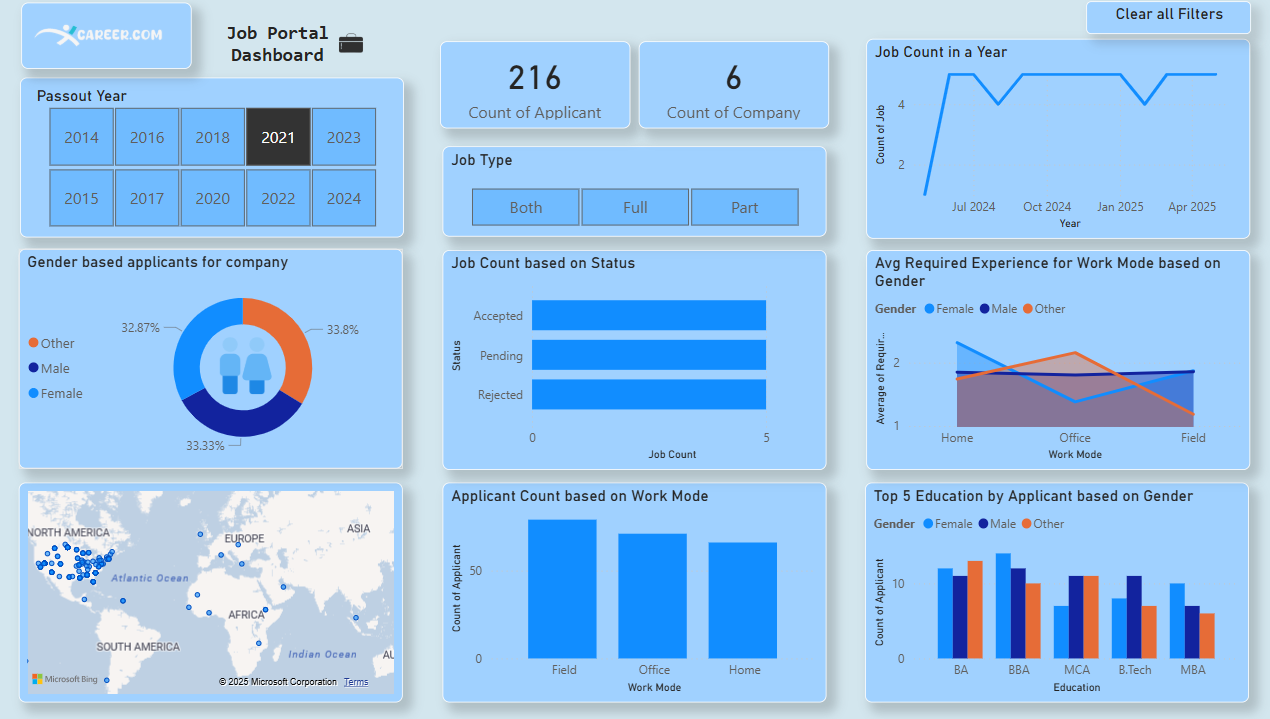

The page's visual inventory and layout, read from the dashboard file:
{"tool":"powerbi","page":{"name":"Page 1","canvas":[1280,720],"ordinal":0},"visuals":[{"type":"textbox","box":[158.8,0,247.5,77.5],"z":1000},{"type":"slicer","title":"Passout Year","fields":{"Values":["Job Portal Data - final_applications_dataset.PassedOut Year"]},"box":[25,77.5,383.8,160],"z":2000},{"type":"donutChart","title":"Gender based applicants for company","fields":{"Category":["Job Portal Data - final_applications_dataset.Gender"],"Y":["CountNonNull(Job Portal Data - final_applications_dataset.Company)"]},"box":[23.8,248.8,384,220],"z":3000,"group":"g1"},{"type":"image","box":[217.6,332.6,66.2,66.2],"z":3500,"group":"g1"},{"type":"map","fields":{"Category":["Job Portal Data - final_applications_dataset.Candidate Place"]},"box":[23.8,482.5,384,220],"z":4000},{"type":"clusteredColumnChart","title":"Applicant Count based on  Work Mode","fields":{"Category":["Job Portal Data - final_applications_dataset.Work Mode"],"Y":["CountNonNull(Job Portal Data - final_applications_dataset.Applicant)"]},"box":[447.5,482.5,383.8,220],"z":5000},{"type":"clusteredColumnChart","title":"Top 5 Education by Applicant based on Gender","fields":{"Category":["Job Portal Data - final_applications_dataset.Education"],"Series":["Job Portal Data - final_applications_dataset.Gender"],"Y":["CountNonNull(Job Portal Data - final_applications_dataset.Applicant)"]},"box":[870,482.5,383.8,220],"z":6000},{"type":"clusteredBarChart","title":"Job Count based on Status","fields":{"Category":["Job Portal Data - final_applications_dataset.Status"],"Y":["Count(Job Portal Data - final_applications_dataset.Job)"]},"box":[447.5,250,383.8,220],"z":7000},{"type":"lineChart","title":"Job Count in a Year","fields":{"Y":["Count(Job Portal Data - final_applications_dataset.Job)"],"Category":["Job Portal Data - final_applications_dataset.Start Date.Variation.Date Hierarchy.Year","Job Portal Data - final_applications_dataset.Start Date.Variation.Date Hierarchy.Month","Job Portal Data - final_applications_dataset.Start Date.Variation.Date Hierarchy.Day"]},"box":[871.2,38.8,383.8,200],"z":8000},{"type":"areaChart","title":"Avg Required Experience for Work Mode based on Gender","fields":{"Category":["Job Portal Data - final_applications_dataset.Work Mode"],"Series":["Job Portal Data - final_applications_dataset.Gender"],"Y":["Avg(Job Portal Data - final_applications_dataset.Required Experience)"]},"box":[871.2,250,383.8,220],"z":9000},{"type":"slicer","title":"Job Type","fields":{"Values":["Job Portal Data - final_applications_dataset.Job Type"]},"box":[447.5,146.2,383.8,90],"z":10000},{"type":"actionButton","title":"Clear all Filters","box":[1091.2,1.2,165,32.5],"z":11000},{"type":"card","fields":{"Values":["CountNonNull(Job Portal Data - final_applications_dataset.Applicant)"]},"box":[445,41.2,190,87.5],"z":12000},{"type":"card","fields":{"Values":["Count(Job Portal Data - final_applications_dataset.Company)"]},"box":[643.8,41.2,190,87.5],"z":13000},{"type":"image","box":[26.2,2.5,170,66.2],"z":14000},{"type":"image","box":[328.8,17.5,55,51.2],"z":14502},{"type":"group","id":"g1","title":"Group 1","box":[23.8,248.8,384,220],"z":14503}]}

Visuals, with their boxes in screenshot pixels (x1, y1, x2, y2), scaled from the page's 1280x720 canvas onto the 1270x719 screenshot:
textbox: [left=158, top=0, right=403, bottom=77]
"Passout Year" slicer: [left=25, top=77, right=406, bottom=237]
"Gender based applicants for company" donutChart: [left=24, top=248, right=405, bottom=468]
image: [left=216, top=332, right=282, bottom=398]
map - Job Portal Data - final_applications_dataset.Candidate Place: [left=24, top=482, right=405, bottom=702]
"Applicant Count based on  Work Mode" clusteredColumnChart: [left=444, top=482, right=825, bottom=702]
"Top 5 Education by Applicant based on Gender" clusteredColumnChart: [left=863, top=482, right=1244, bottom=702]
"Job Count based on Status" clusteredBarChart: [left=444, top=250, right=825, bottom=469]
"Job Count in a Year" lineChart: [left=864, top=39, right=1245, bottom=238]
"Avg Required Experience for Work Mode based on Gender" areaChart: [left=864, top=250, right=1245, bottom=469]
"Job Type" slicer: [left=444, top=146, right=825, bottom=236]
"Clear all Filters" actionButton: [left=1083, top=1, right=1246, bottom=34]
card - CountNonNull(Job Portal Data - final_applications_dataset.Applicant): [left=442, top=41, right=630, bottom=129]
card - Count(Job Portal Data - final_applications_dataset.Company): [left=639, top=41, right=827, bottom=129]
image: [left=26, top=2, right=195, bottom=69]
image: [left=326, top=17, right=381, bottom=69]
"Group 1" group: [left=24, top=248, right=405, bottom=468]
